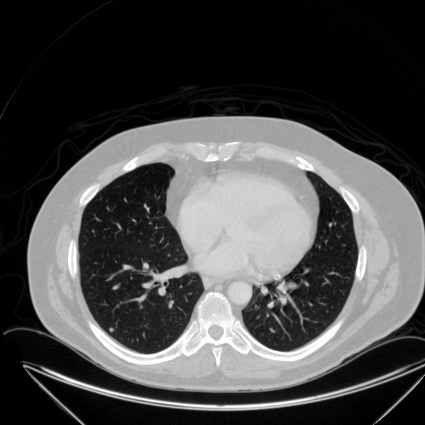PN: (109, 327, 113, 331)
